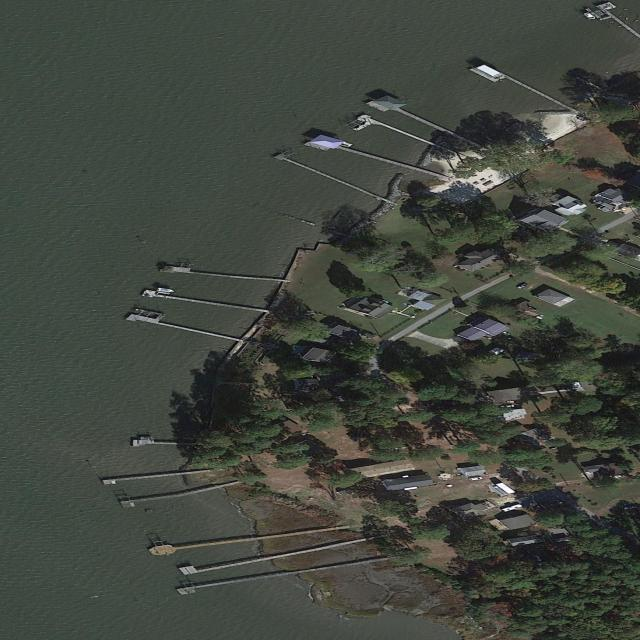ship: (500, 503, 525, 512), (581, 12, 597, 21), (156, 288, 176, 293), (140, 436, 154, 440)
small-vehicle: (515, 282, 531, 290), (500, 404, 516, 409), (468, 477, 484, 481)
